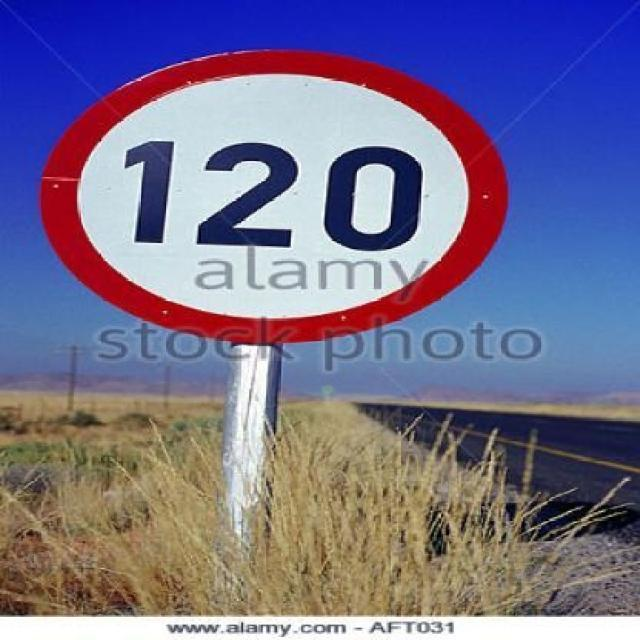forb_speed_over_120: (48, 57, 503, 334)
